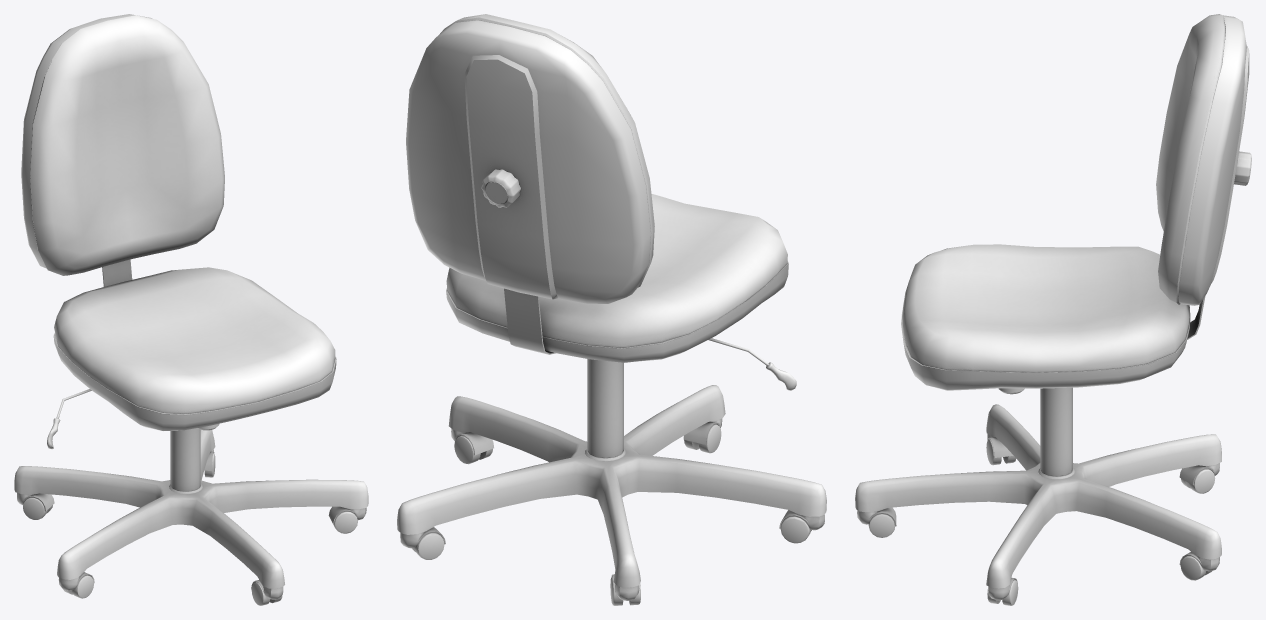
File: chair-transformed.glb
3 views of the same model, side by side, from view 1: azimuth 30°, elevation 25°; view 2: azimuth 150°, elevation 25°; view 3: azimuth 270°, elevation 25° (orthographic). The views are drawn at different scales.
Visible parts, largest first — view 1: seat, chair_base; view 2: seat, chair_base; view 3: seat, chair_base.
Boxes of the visible parts, x1,y1,x2,y2 form: seat: [21, 14, 336, 449]; chair_base: [14, 428, 368, 605]; seat: [406, 14, 796, 390]; chair_base: [397, 359, 826, 605]; seat: [901, 14, 1251, 394]; chair_base: [855, 387, 1221, 605].
Bounding box in the file's own units: 0.6961 × 1.01 × 0.7176.
Materials: 2 (2 with a texture image).
